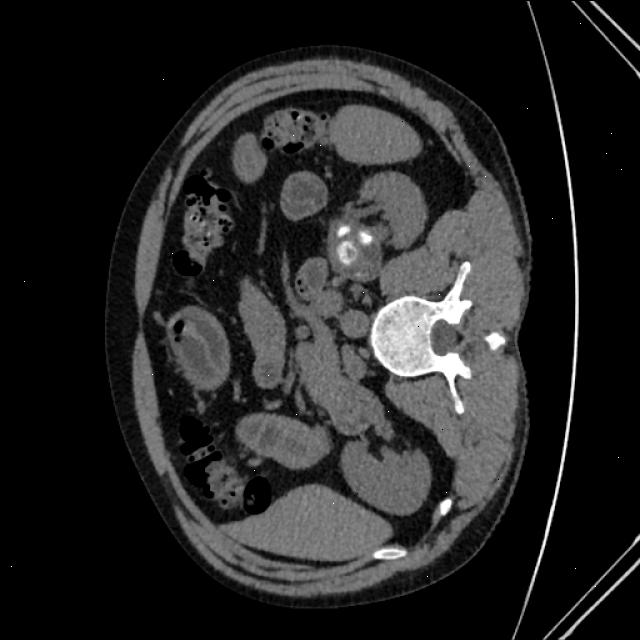kidneystone: (336, 239, 358, 265), (361, 230, 373, 242), (338, 225, 351, 236)
